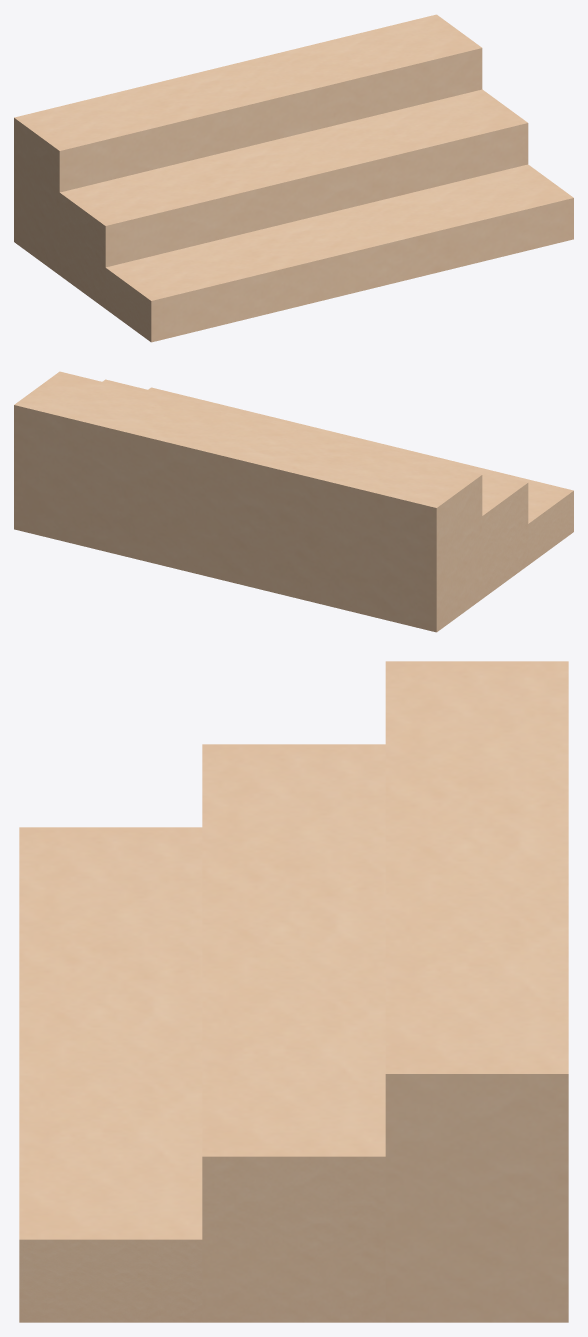
The model's file is Steps_Exterior.fbx.
3 renders of one model, top to bottom at view 1: azimuth 30°, elevation 25°; view 2: azimuth 150°, elevation 25°; view 3: azimuth 270°, elevation 25°, orthographic. The views are drawn at different scales.
Visible parts, largest first — view 1: Steps_Exterior; view 2: Steps_Exterior; view 3: Steps_Exterior.
Part boxes in pixels (bbox=[...]): Steps_Exterior: bbox=[14, 14, 573, 342]; Steps_Exterior: bbox=[14, 371, 573, 632]; Steps_Exterior: bbox=[19, 661, 568, 1322].
Bounding box in the file's own units: 1.6 × 0.45 × 0.9.
1 material, 1 textured.
